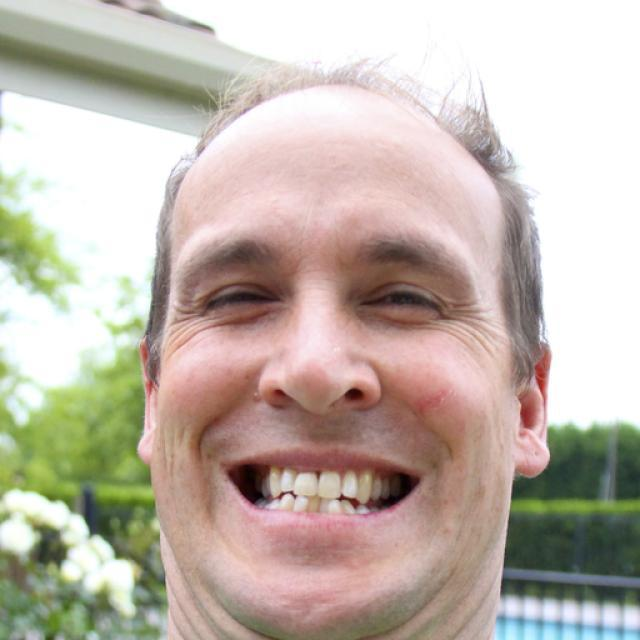0_rostro_limpio: (140, 68, 550, 639)
